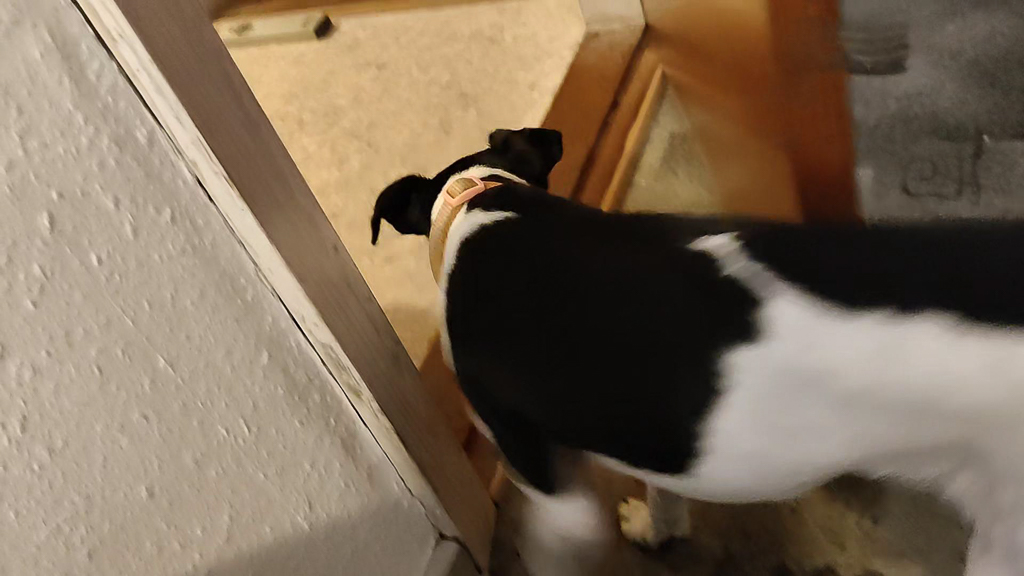Dog: (344, 104, 1024, 576)
